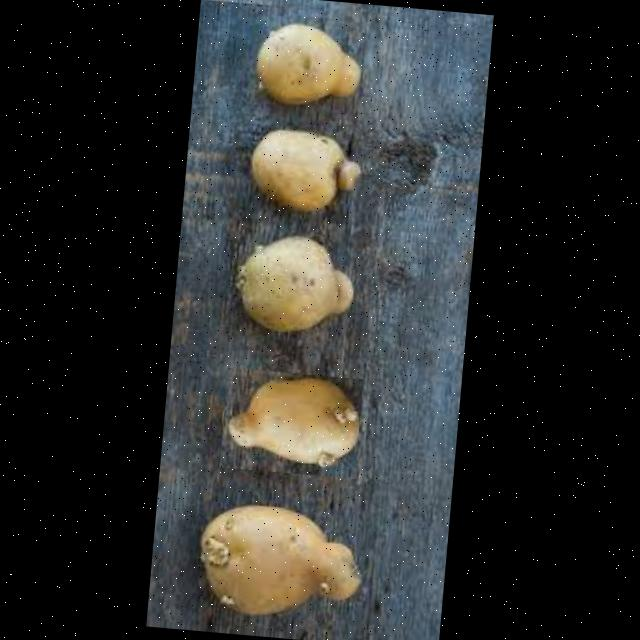Damaged potato: (252, 12, 366, 118), (248, 128, 362, 212)
Sprouted potato: (194, 499, 372, 628), (219, 367, 363, 478), (228, 229, 356, 336)
